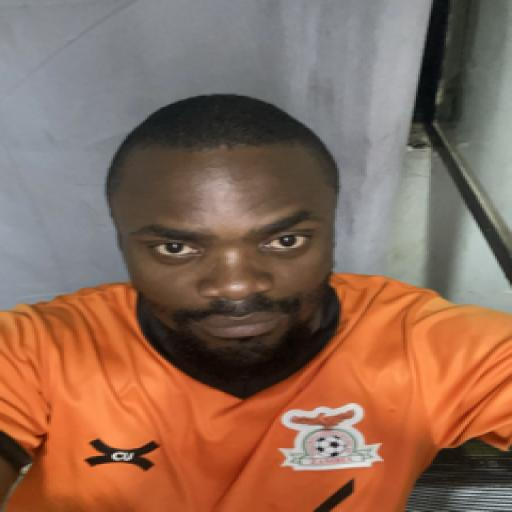JEANLUC: (94, 91, 357, 381)
